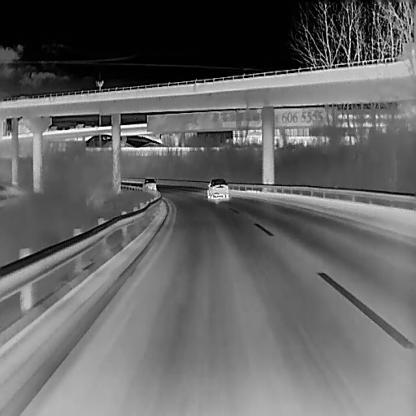car: (206, 178, 228, 199), (141, 177, 157, 192)
